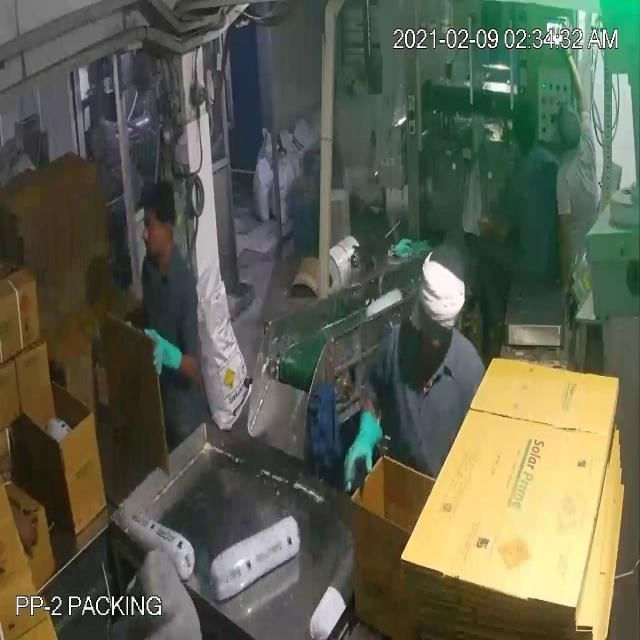Gloves: (56, 82, 365, 451)
